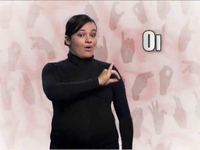oi: (99, 64, 122, 88)
